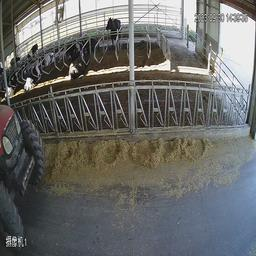cow: (62, 41, 92, 82), (20, 55, 44, 93), (104, 11, 125, 51), (40, 39, 58, 73), (5, 60, 17, 95)
